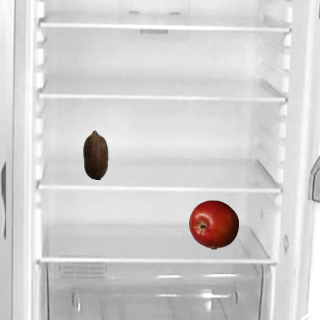Apple Braeburn: (188, 199, 238, 249)
Nut Pecan: (70, 129, 120, 179)
